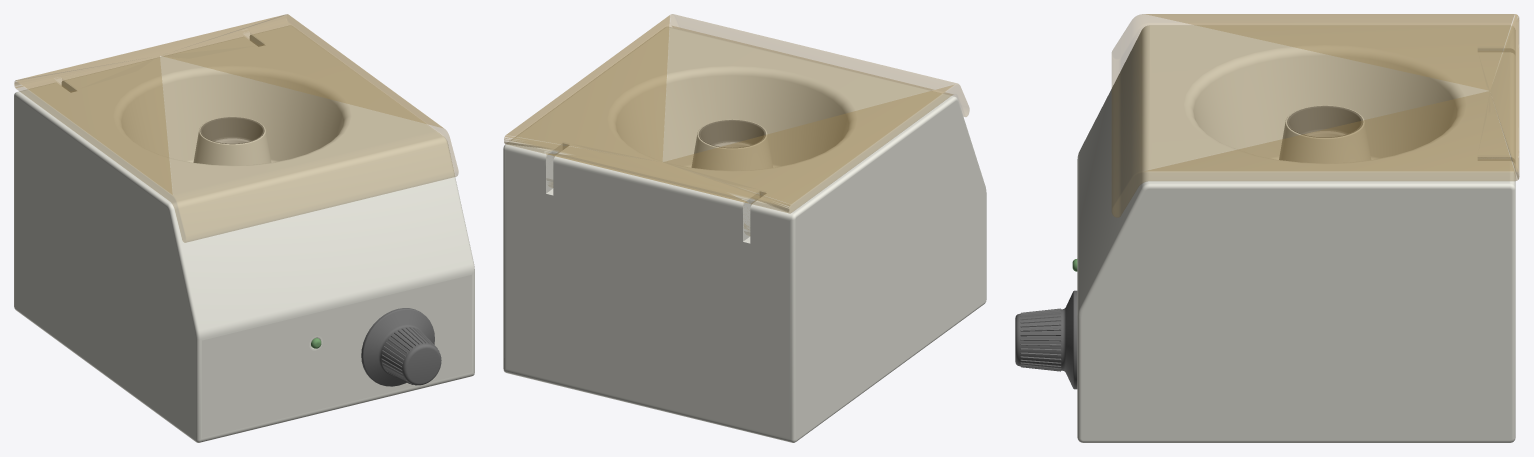
The picture shows the model from 3 angles, left to right: view 1: azimuth 30°, elevation 25°; view 2: azimuth 150°, elevation 25°; view 3: azimuth 270°, elevation 25°; orthographic projection. The views are drawn at different scales.
Visible parts, largest first — view 1: Centrifuge_01.006, Centrifuge_01.002, Centrifuge_01.004, Centrifuge_01.001; view 2: Centrifuge_01.006, Centrifuge_01.002, Centrifuge_01.001; view 3: Centrifuge_01.006, Centrifuge_01.002, Centrifuge_01.001.
Part boxes in pixels (x1,y1,x2,y2): Centrifuge_01.006: (14,25,474,442); Centrifuge_01.002: (14,14,458,242); Centrifuge_01.004: (202,274,471,437); Centrifuge_01.001: (200,117,441,386); Centrifuge_01.006: (503,27,986,442); Centrifuge_01.002: (504,14,969,235); Centrifuge_01.001: (698,120,765,147); Centrifuge_01.006: (1077,25,1515,442); Centrifuge_01.002: (1112,14,1519,217); Centrifuge_01.001: (1015,106,1362,389).
Bounding box in the file's own units: 78.74 × 63.39 × 104.
